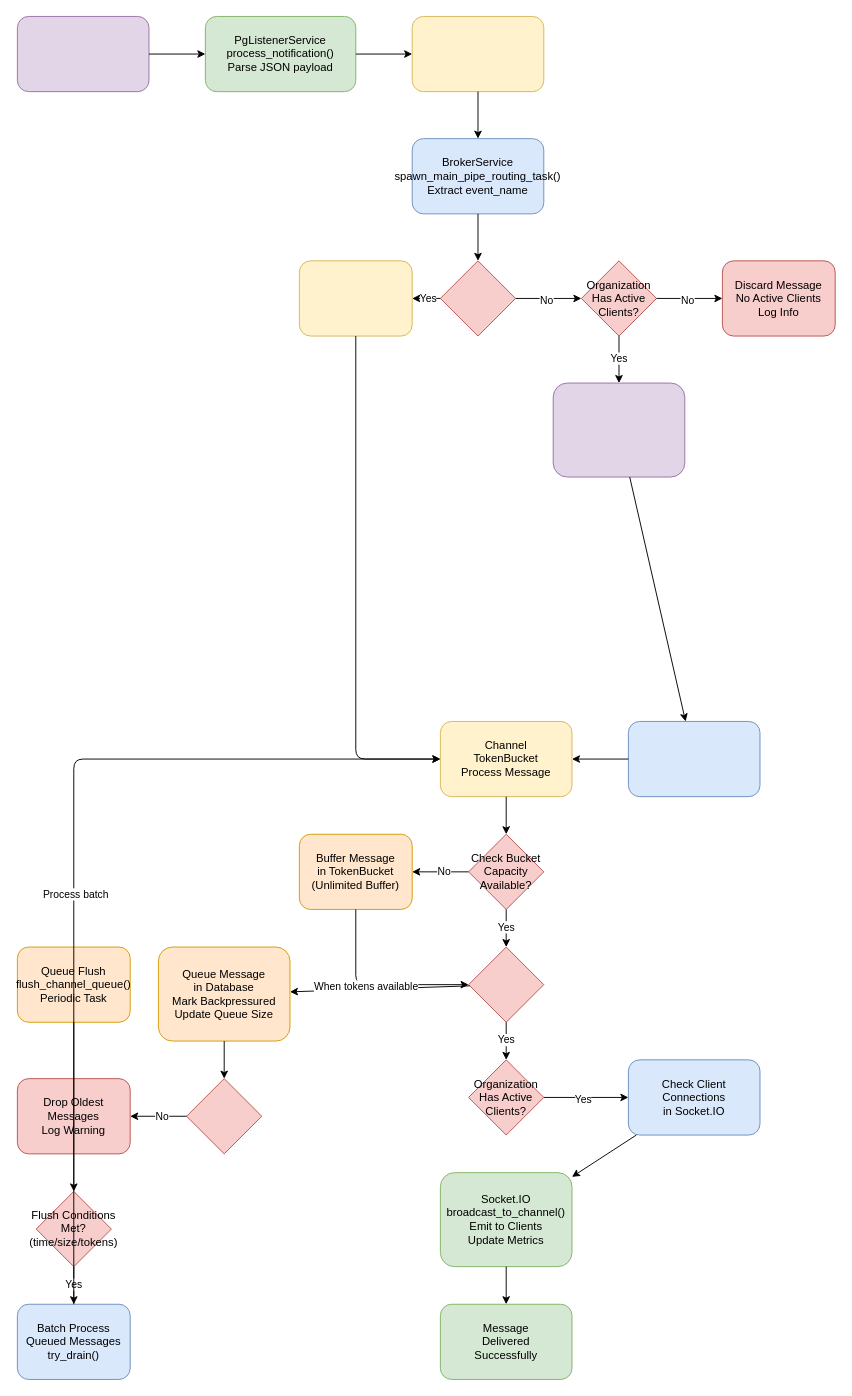
Image size: 852x1396. Some labels were removed from this diagram. Here are the shapes that lost their labels. From the top down, the centre of each, then its label:
At point (82, 54): "PostgreSQL NOTIFY Event (JSON payload)".
At point (477, 54): "Main Stream TokenBucket receive_message()".
At point (355, 298): "Get Channel TokenBucket from SharedState".
At point (477, 298): "Channel Exists in SharedState?".
At point (618, 429): "Create Channel TokenBucket Register with SharedState Register with Broker".
At point (693, 759): "Load Channel Configuration (capacity, rate_limit)".
At point (506, 984): "Tokens Available? emit_message()".
At point (224, 1116): "Queue Size Within Limit?".
